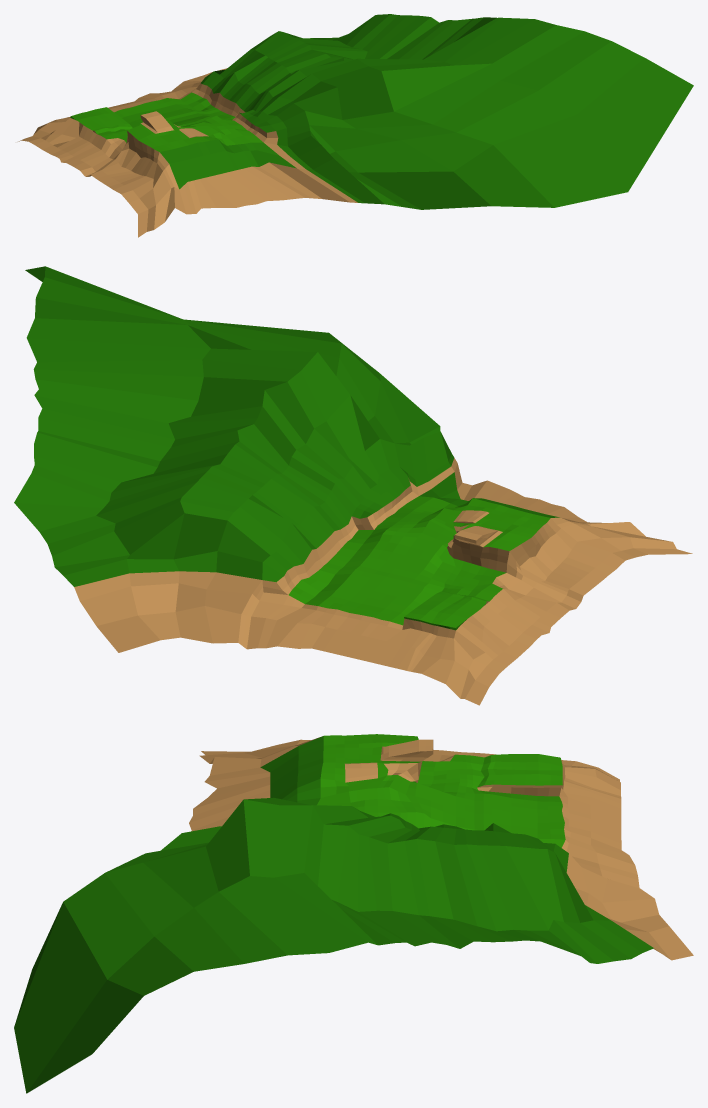
The model's file is hill.fbx.
3 renders of one model, top to bottom at view 1: azimuth 30°, elevation 25°; view 2: azimuth 150°, elevation 25°; view 3: azimuth 270°, elevation 25°, orthographic. The views are drawn at different scales.
Visible parts, largest first — view 1: hill; view 2: hill; view 3: hill.
Part boxes in pixels (x1,y1,x2,y2): hill: [18, 14, 693, 237]; hill: [14, 266, 692, 705]; hill: [14, 734, 693, 1093].
Bounding box in the file's own units: 34336 × 6991 × 25871.
